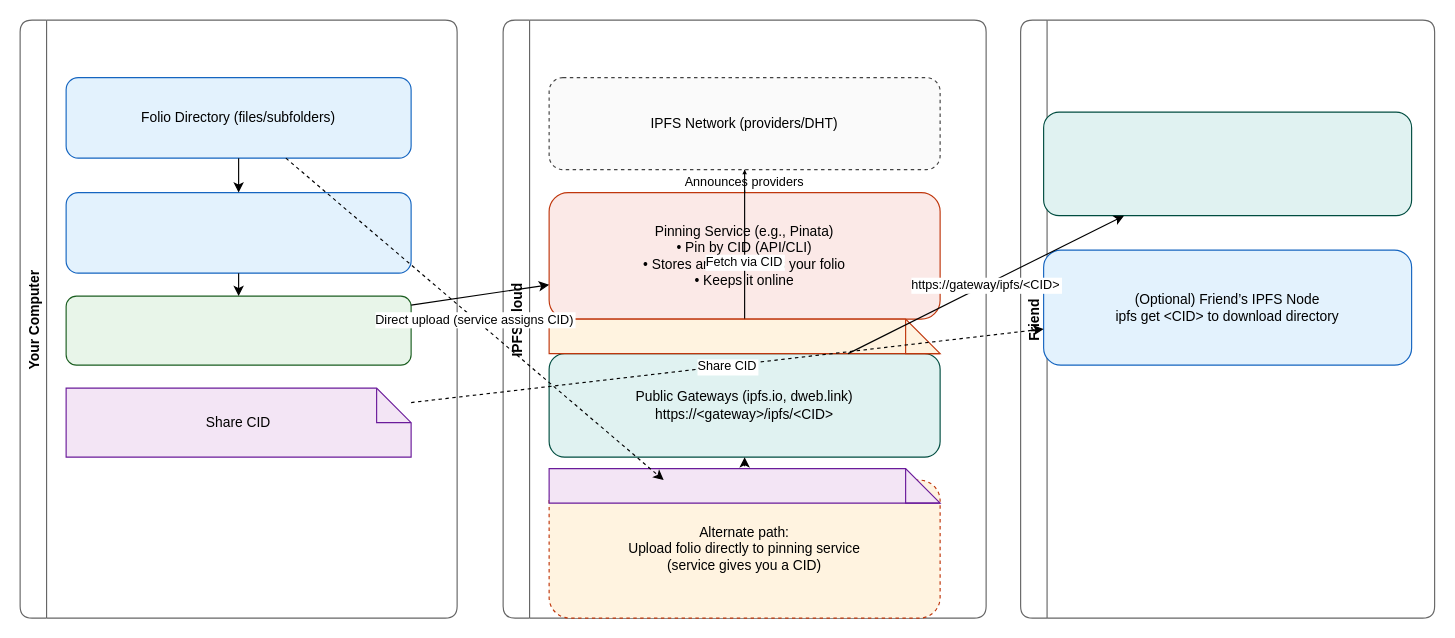
Some shapes in this 1455 by 638 pixel diagram are drawn without their labels. Each missing label, with the centre of its shape:
(Future) IPNS will give a persistent name across versions: the point at 744,485
Friend uses a Gateway URL (no IPFS install needed): the point at 1227,163
ipfs add → returns CID: the point at 238,330
Local IPFS Node (daemon running): the point at 238,232
Once pinned, folio stays available even if your computer is offline: the point at 744,336
